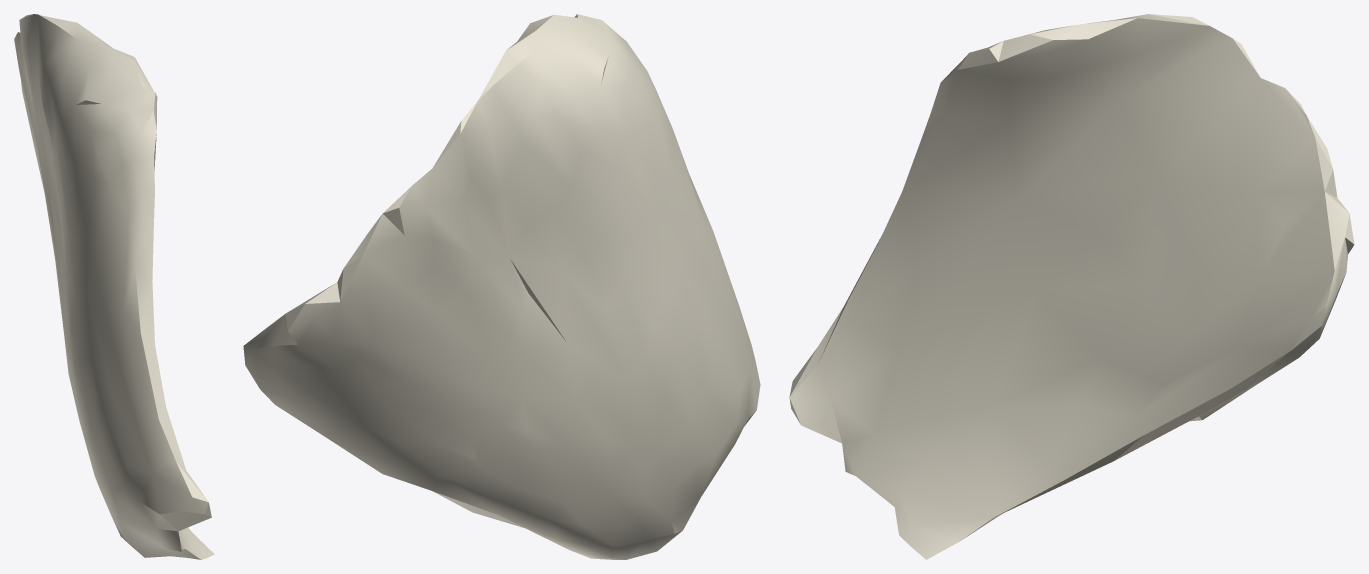
Rendered from fma326799-r_mm1456m.glb.
3 views of the same model, side by side, from view 1: azimuth 30°, elevation 25°; view 2: azimuth 150°, elevation 25°; view 3: azimuth 270°, elevation 25° (orthographic). The views are drawn at different scales.
Visible parts, largest first — view 1: FMA326799-R_MM1456M; view 2: FMA326799-R_MM1456M; view 3: FMA326799-R_MM1456M.
Part boxes in pixels (x1=…): FMA326799-R_MM1456M: x1=14, y1=14, x2=214, y2=559; FMA326799-R_MM1456M: x1=243, y1=14, x2=760, y2=559; FMA326799-R_MM1456M: x1=789, y1=14, x2=1354, y2=559.
Bounding box in the file's own units: 0.00225 × 0.00522 × 0.00515.
